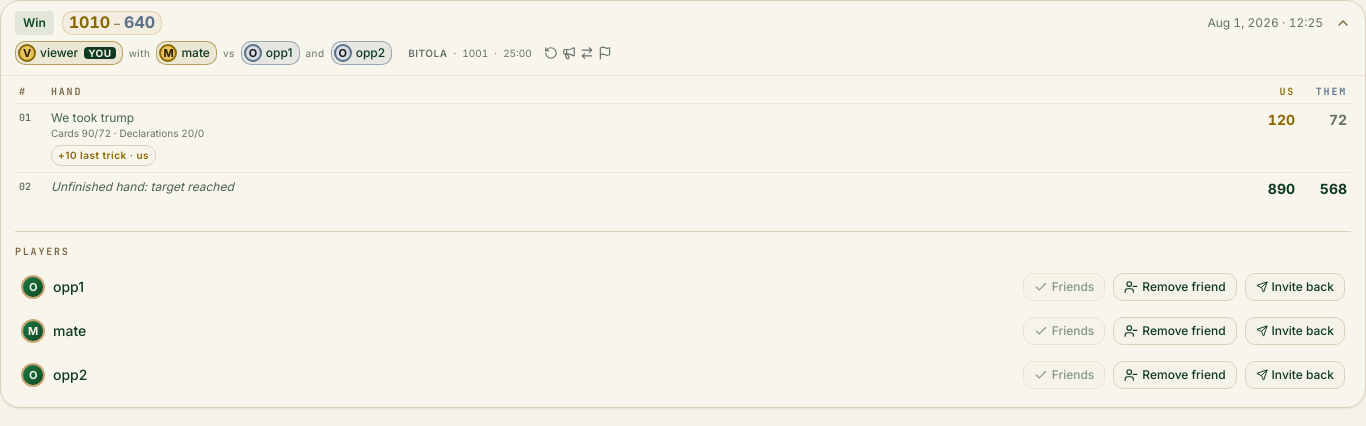
Test: RoomLastMatch › collapses and re-expands from the card's chevron
Click the element with test id "match-history-row-header". click: (34, 23)
box: [1,1,1365,75]
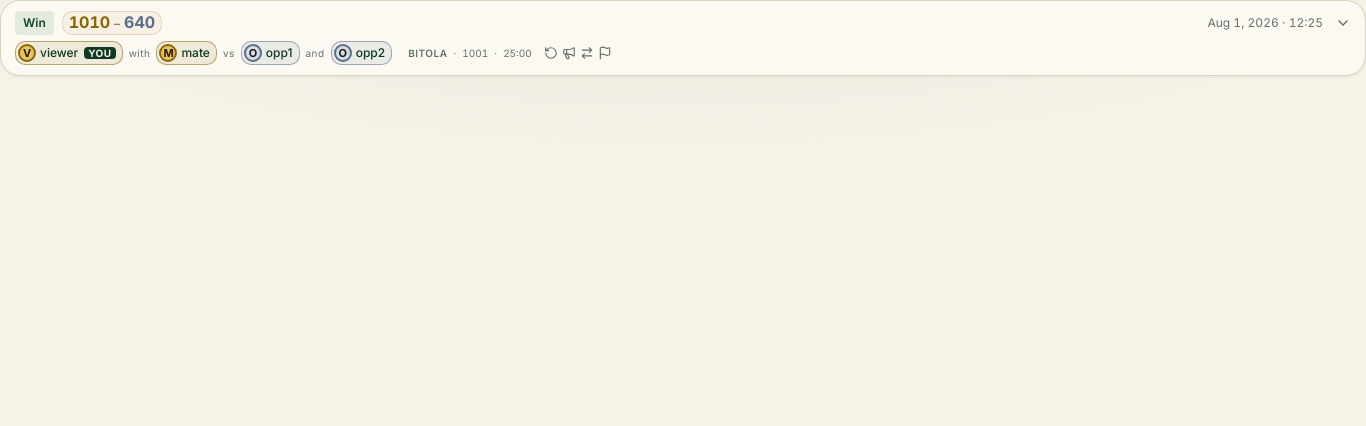
Result: the element with test id "match-history-detail" is gone
Click the element with test id "match-history-row-header". click: (34, 23)
box: [1,1,1365,75]
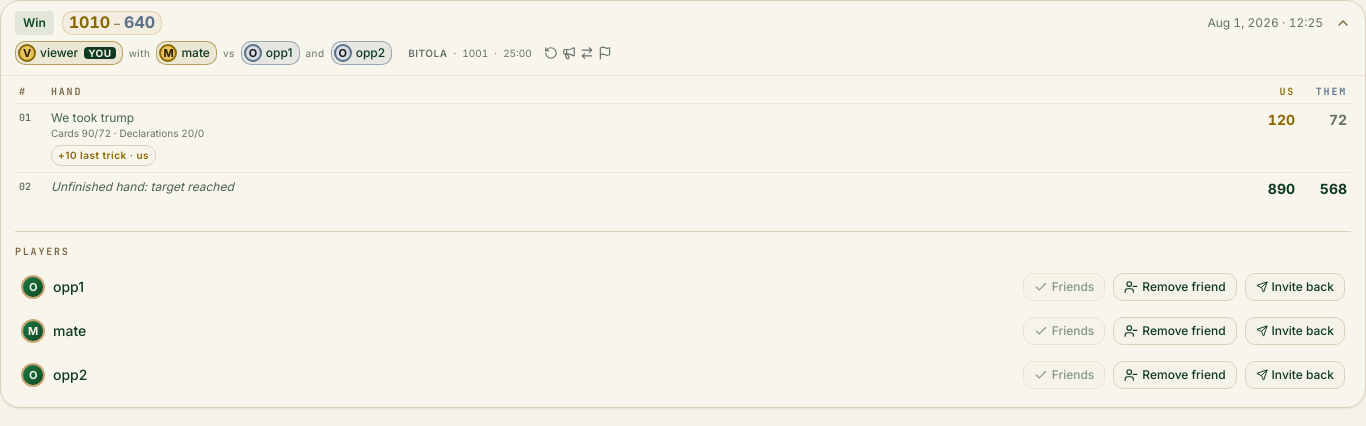
Result: the element with test id "match-history-detail" is shown
